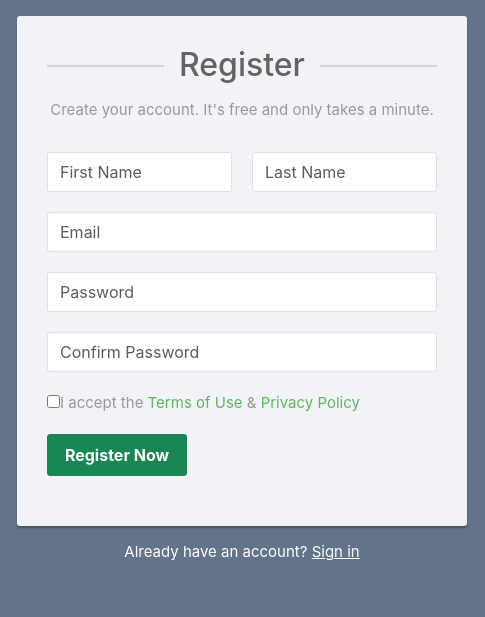
Test: RegisterPage component › renders registration form and default error message
Type "John" into the field with placeholder "First Name" at (140, 172), box left=47, top=152, right=232, bottom=192
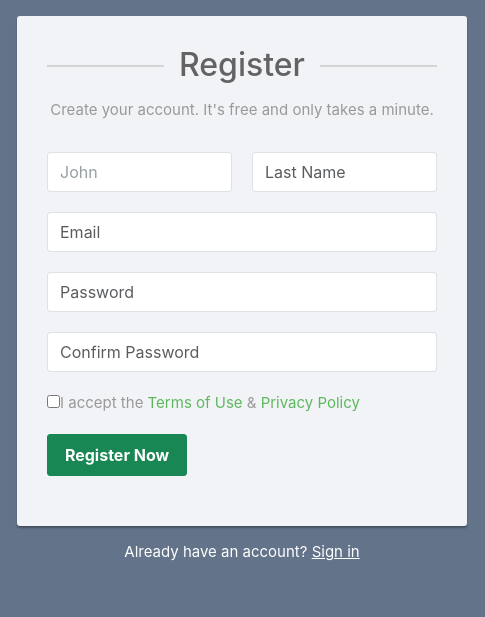
Type "Doe" into the field with placeholder "Last Name" at (344, 172), box left=252, top=152, right=437, bottom=192
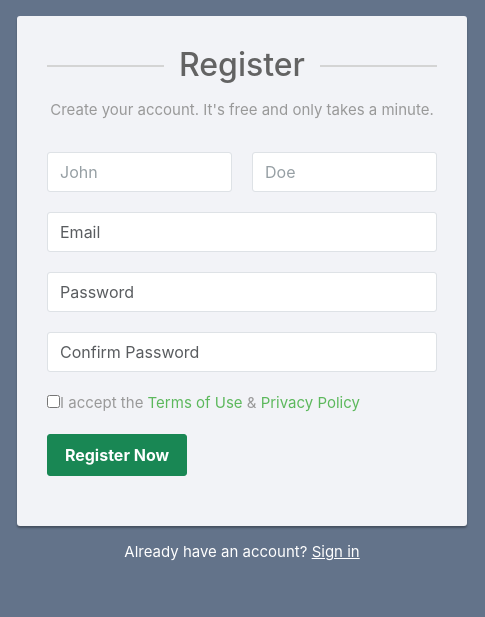
Type "test@example.com" into the field with placeholder "Email" at (242, 232), box left=47, top=212, right=437, bottom=252
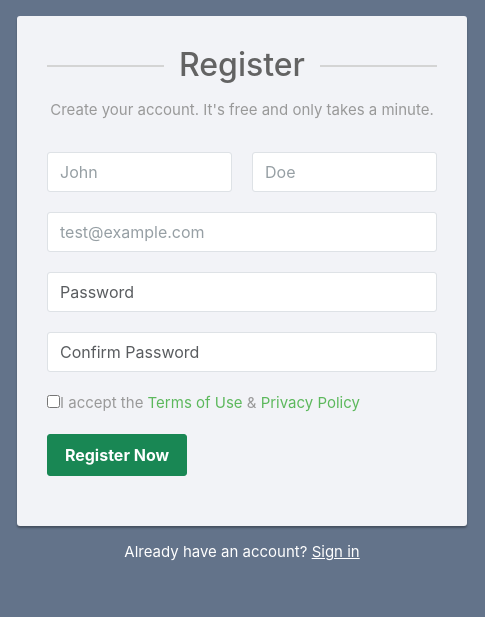
Type "testPassword" into the password field with placeholder "Password" at (242, 292), box left=47, top=272, right=437, bottom=312
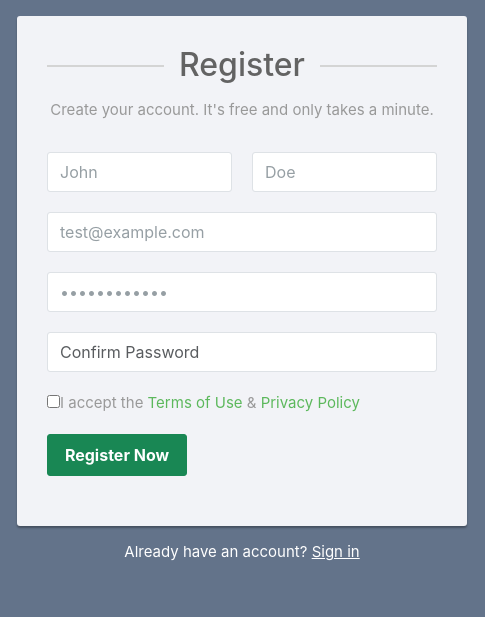
Type "testPassword" into the password field with placeholder "Confirm Password" at (242, 352), box left=47, top=332, right=437, bottom=372
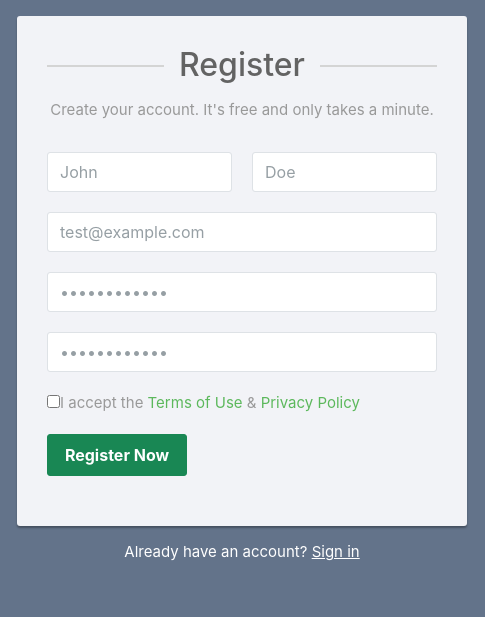
Submit the form from the button with test id "register", box left=47, top=434, right=187, bottom=476
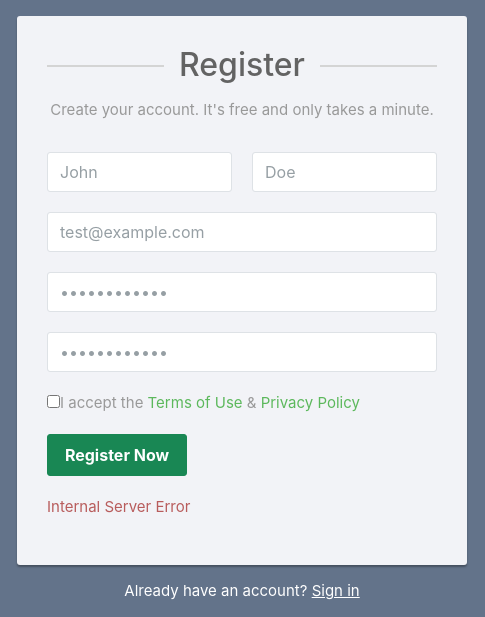
Result: the text "Internal Server Error" is shown at left=47, top=497, right=190, bottom=516
